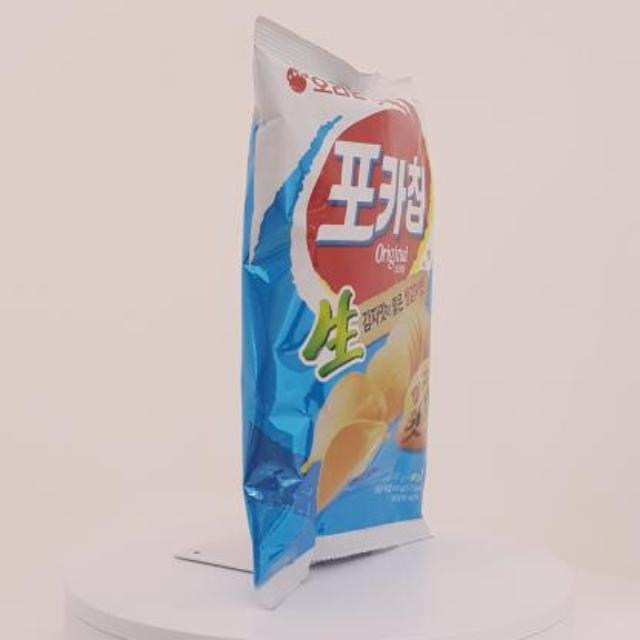snack_bag: (214, 10, 466, 614)
